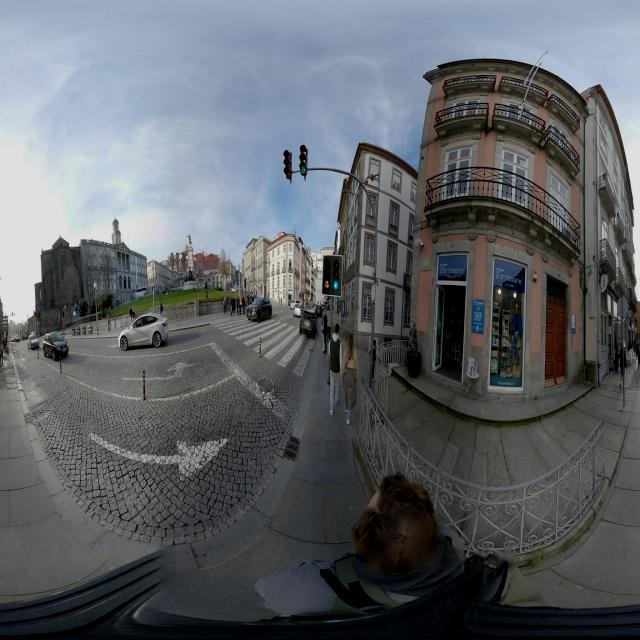car: (118, 312, 170, 351), (44, 331, 69, 360), (246, 296, 272, 323), (300, 307, 318, 338), (29, 332, 39, 350), (293, 299, 302, 317)
